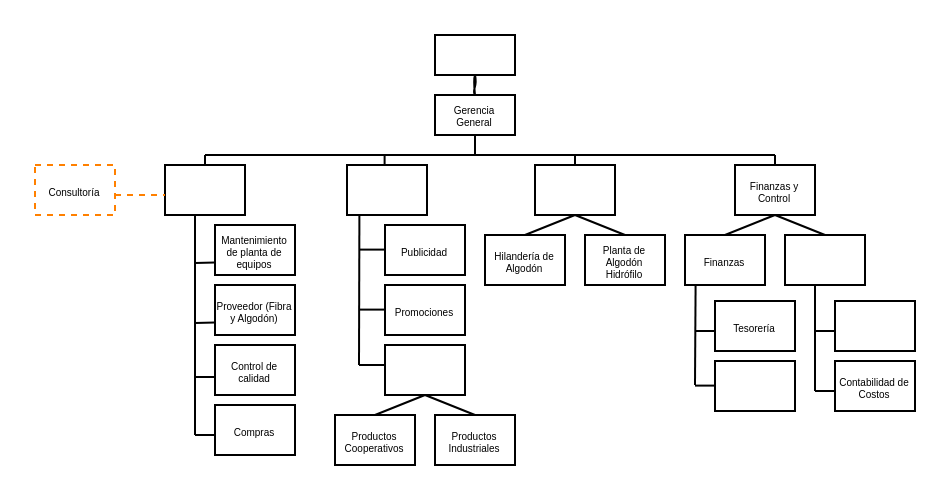
The diagram is 950 pixels wide and 500 high, and some of its shapes have lost their labels. Each missing label, with the box of its shape:
Comercialización: (345, 163, 427, 215)
Consejo de Administración: (433, 33, 515, 75)
Contabilidad General: (833, 299, 915, 351)
Control: (783, 233, 865, 285)
Créditos y Cobranzas: (713, 359, 795, 411)
Industrias: (533, 163, 615, 215)
Producción: (163, 163, 245, 215)
Ventas: (383, 343, 465, 395)
